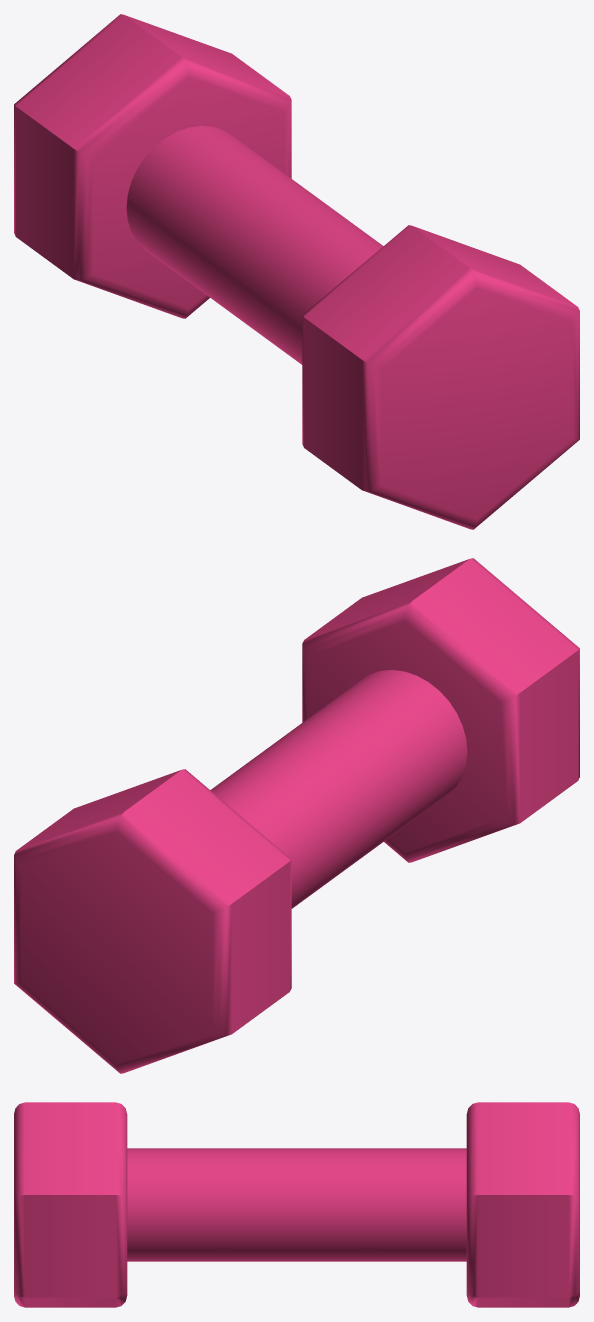
Rendered from Hantel.fbx.
3 views of the same model, one above another, from view 1: azimuth 30°, elevation 25°; view 2: azimuth 150°, elevation 25°; view 3: azimuth 270°, elevation 25° (orthographic). The views are drawn at different scales.
Parts seen in each view (by area): view 1: Cylinder; view 2: Cylinder; view 3: Cylinder.
Boxes of the visible parts, box(x1,y1,x2,y2) form: Cylinder: box(14, 14, 579, 529); Cylinder: box(14, 558, 579, 1073); Cylinder: box(14, 1102, 579, 1307).
Bounding box in the file's own units: 5.2 × 6 × 15.
